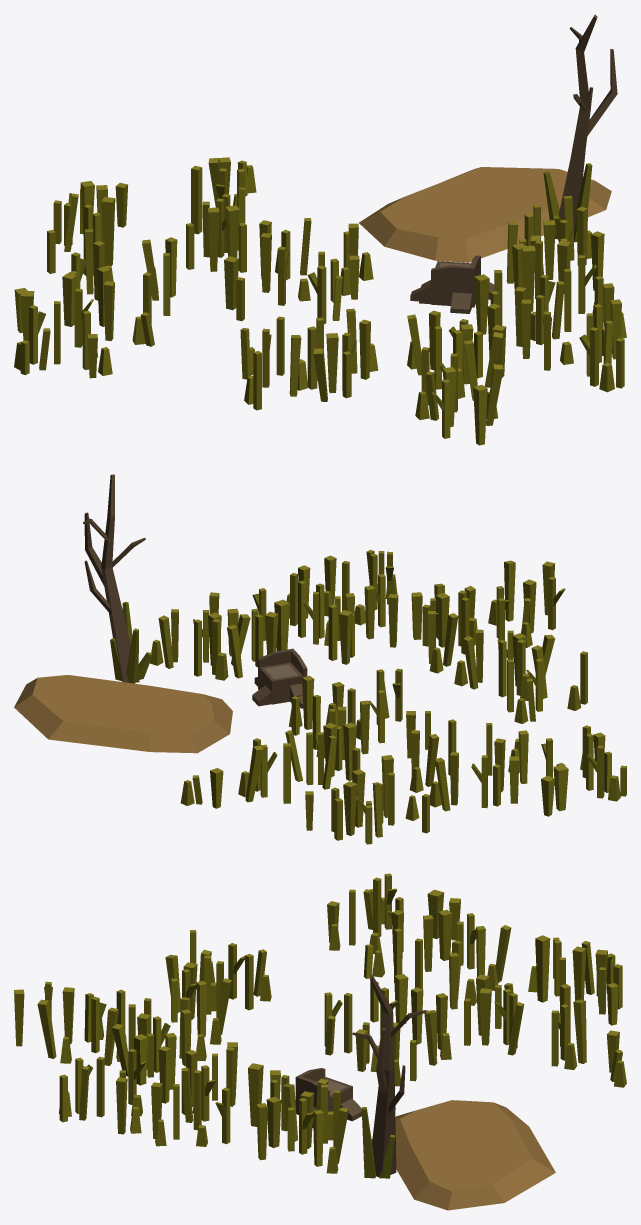
Rendered from SF_Env_Swamp_Preset_011.FBX.
3 renders of one model, top to bottom at view 1: azimuth 30°, elevation 25°; view 2: azimuth 150°, elevation 25°; view 3: azimuth 270°, elevation 25°, orthographic. The views are drawn at different scales.
Visible parts, largest first — view 1: SF_Env_Swamp_Preset_011_Elements189, SF_Env_Swamp_Preset_011_Elements180, SF_Env_Swamp_Preset_011_Elements174, SF_Env_Swamp_Preset_011_Elements29, SF_Env_Swamp_Preset_011_Elements48, SF_Env_Swamp_Preset_011_Elements135, SF_Env_Swamp_Preset_011_Elements173, SF_Env_Swamp_Preset_011_Elements13, SF_Env_Swamp_Preset_011_Elements138, SF_Env_Swamp_Preset_011_Elements75, SF_Env_Swamp_Preset_011_Elements167, SF_Env_Swamp_Preset_011_Elements43 (+7 smaller); view 2: SF_Env_Swamp_Preset_011_Elements189, SF_Env_Swamp_Preset_011_Elements180, SF_Env_Swamp_Preset_011_Elements174, SF_Env_Swamp_Preset_011_Elements138, SF_Env_Swamp_Preset_011_Elements30, SF_Env_Swamp_Preset_011_Elements135, SF_Env_Swamp_Preset_011_Elements96, SF_Env_Swamp_Preset_011_Elements40, SF_Env_Swamp_Preset_011_Elements43, SF_Env_Swamp_Preset_011_Elements69, SF_Env_Swamp_Preset_011_Elements105, SF_Env_Swamp_Preset_011_Elements54 (+4 smaller); view 3: SF_Env_Swamp_Preset_011_Elements189, SF_Env_Swamp_Preset_011_Elements180, SF_Env_Swamp_Preset_011_Elements174, SF_Env_Swamp_Preset_011_Elements29, SF_Env_Swamp_Preset_011_Elements138, SF_Env_Swamp_Preset_011_Elements40, SF_Env_Swamp_Preset_011_Elements143, SF_Env_Swamp_Preset_011_Elements23, SF_Env_Swamp_Preset_011_Elements96, SF_Env_Swamp_Preset_011_Elements75, SF_Env_Swamp_Preset_011_Elements51, SF_Env_Swamp_Preset_011_Elements13 (+27 smaller).
Boxes of the visible parts, x1,y1,x2,y2 form: SF_Env_Swamp_Preset_011_Elements189: [359, 167, 611, 262]; SF_Env_Swamp_Preset_011_Elements180: [543, 14, 617, 242]; SF_Env_Swamp_Preset_011_Elements174: [410, 255, 494, 307]; SF_Env_Swamp_Preset_011_Elements29: [101, 197, 115, 266]; SF_Env_Swamp_Preset_011_Elements48: [191, 165, 202, 234]; SF_Env_Swamp_Preset_011_Elements135: [474, 274, 489, 334]; SF_Env_Swamp_Preset_011_Elements173: [473, 385, 487, 445]; SF_Env_Swamp_Preset_011_Elements13: [224, 256, 238, 310]; SF_Env_Swamp_Preset_011_Elements138: [522, 245, 535, 311]; SF_Env_Swamp_Preset_011_Elements75: [62, 273, 77, 326]; SF_Env_Swamp_Preset_011_Elements167: [359, 319, 370, 379]; SF_Env_Swamp_Preset_011_Elements43: [208, 207, 219, 271]; SF_Env_Swamp_Preset_011_Elements189: [14, 675, 232, 753]; SF_Env_Swamp_Preset_011_Elements180: [83, 474, 152, 683]; SF_Env_Swamp_Preset_011_Elements174: [252, 648, 307, 708]; SF_Env_Swamp_Preset_011_Elements138: [274, 599, 289, 650]; SF_Env_Swamp_Preset_011_Elements30: [343, 781, 357, 835]; SF_Env_Swamp_Preset_011_Elements135: [339, 610, 352, 664]; SF_Env_Swamp_Preset_011_Elements96: [504, 560, 515, 621]; SF_Env_Swamp_Preset_011_Elements40: [245, 745, 263, 802]; SF_Env_Swamp_Preset_011_Elements43: [343, 722, 356, 780]; SF_Env_Swamp_Preset_011_Elements69: [553, 764, 568, 811]; SF_Env_Swamp_Preset_011_Elements105: [436, 593, 449, 647]; SF_Env_Swamp_Preset_011_Elements54: [302, 675, 314, 729]; SF_Env_Swamp_Preset_011_Elements189: [395, 1100, 555, 1210]; SF_Env_Swamp_Preset_011_Elements180: [352, 976, 426, 1178]; SF_Env_Swamp_Preset_011_Elements174: [295, 1068, 361, 1127]; SF_Env_Swamp_Preset_011_Elements29: [535, 935, 550, 1002]; SF_Env_Swamp_Preset_011_Elements138: [248, 1063, 263, 1126]; SF_Env_Swamp_Preset_011_Elements40: [573, 999, 586, 1063]; SF_Env_Swamp_Preset_011_Elements143: [266, 1096, 281, 1147]; SF_Env_Swamp_Preset_011_Elements23: [572, 946, 586, 1000]; SF_Env_Swamp_Preset_011_Elements96: [37, 999, 56, 1058]; SF_Env_Swamp_Preset_011_Elements75: [438, 910, 452, 960]; SF_Env_Swamp_Preset_011_Elements51: [479, 988, 491, 1045]; SF_Env_Swamp_Preset_011_Elements13: [394, 974, 408, 1023].
Bounding box in the file's own units: 23.35 × 7.92 × 20.73.
